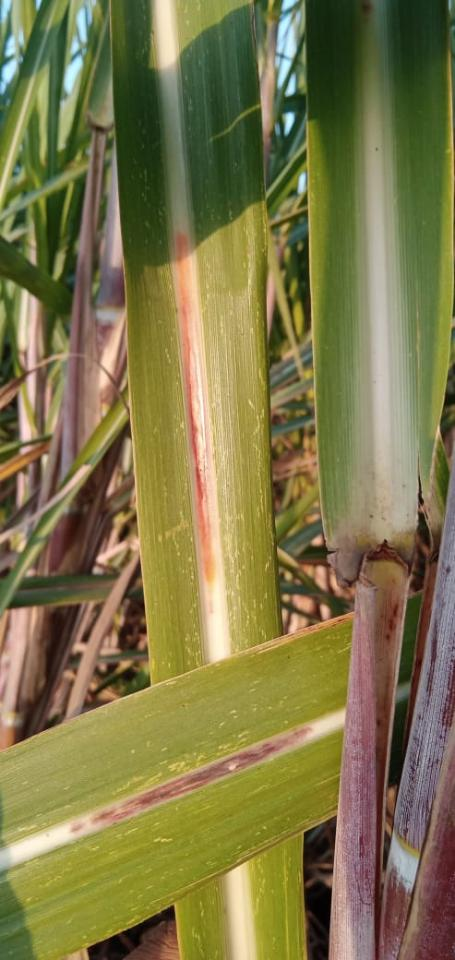RedRot: (68, 726, 313, 836), (175, 226, 221, 618)
